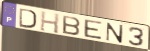3: (128, 27, 145, 47)
B: (62, 15, 82, 36)
D: (19, 7, 38, 29)
E: (83, 19, 104, 41)
H: (39, 10, 61, 35)
N: (105, 22, 125, 44)
